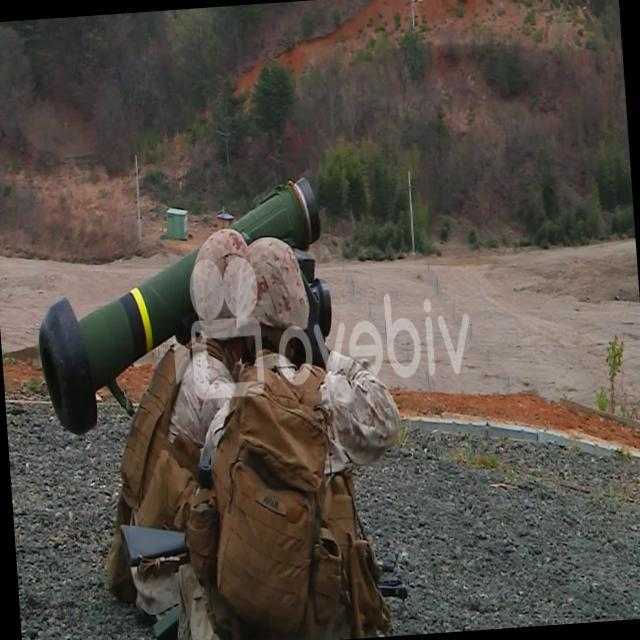rocket: (32, 182, 325, 425)
